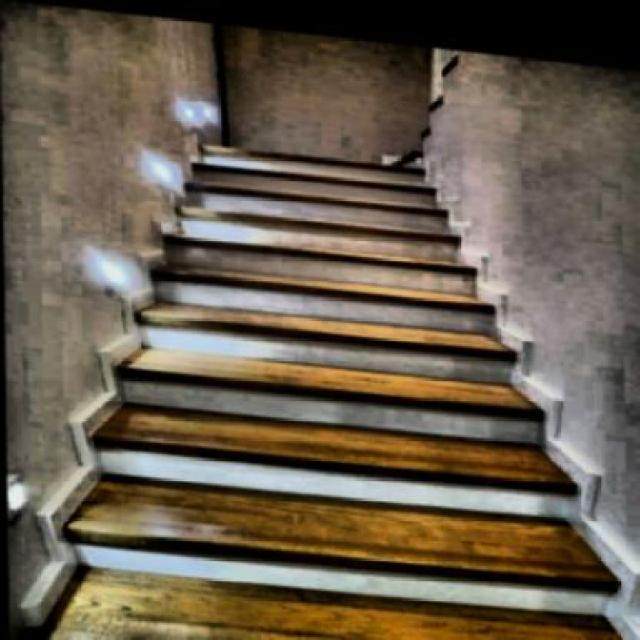stair: (23, 119, 639, 638)
